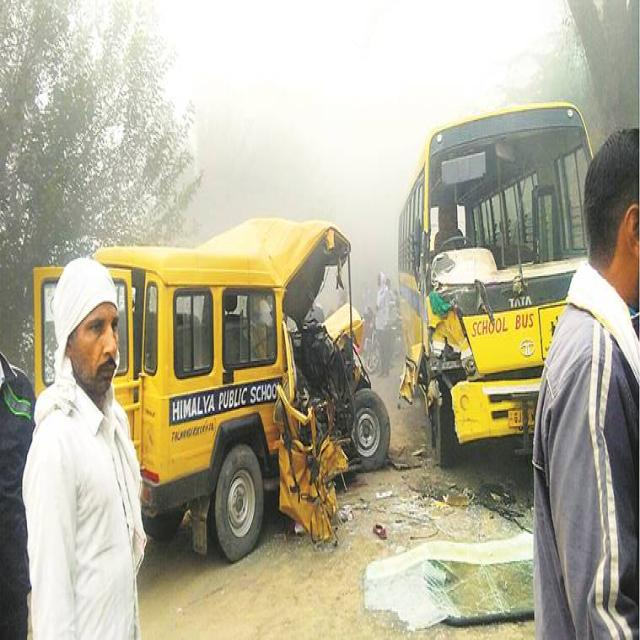accident: (93, 218, 390, 563), (398, 102, 591, 470)
